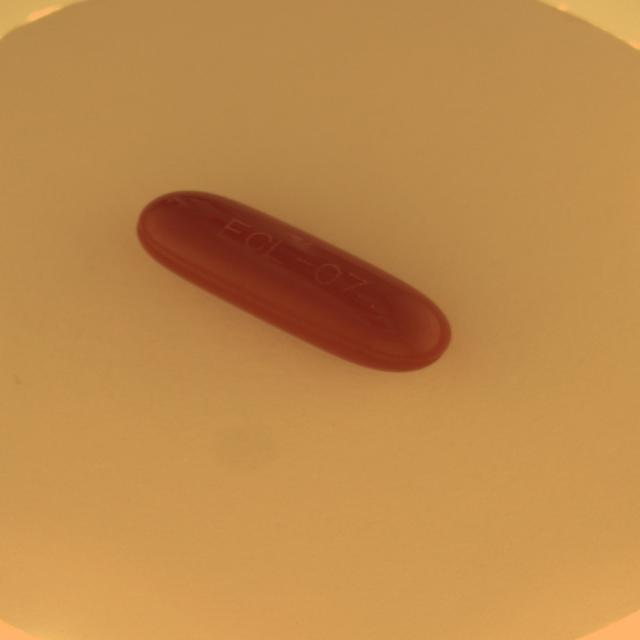Oval: (136, 188, 454, 375)
